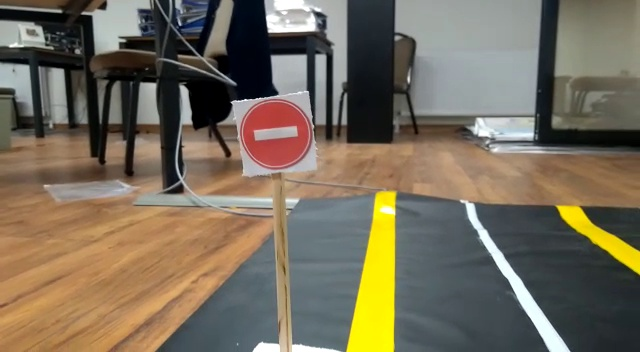girisi_olmayan_yol: (236, 97, 315, 176)
